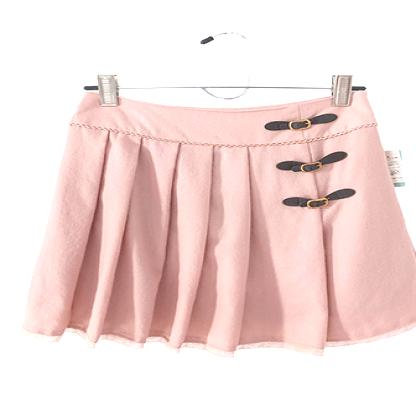jacket: (16, 93, 416, 352)
